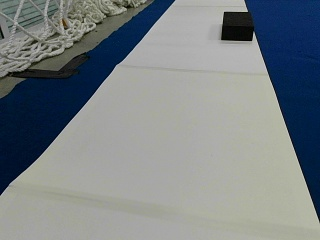block: (221, 11, 254, 40)
